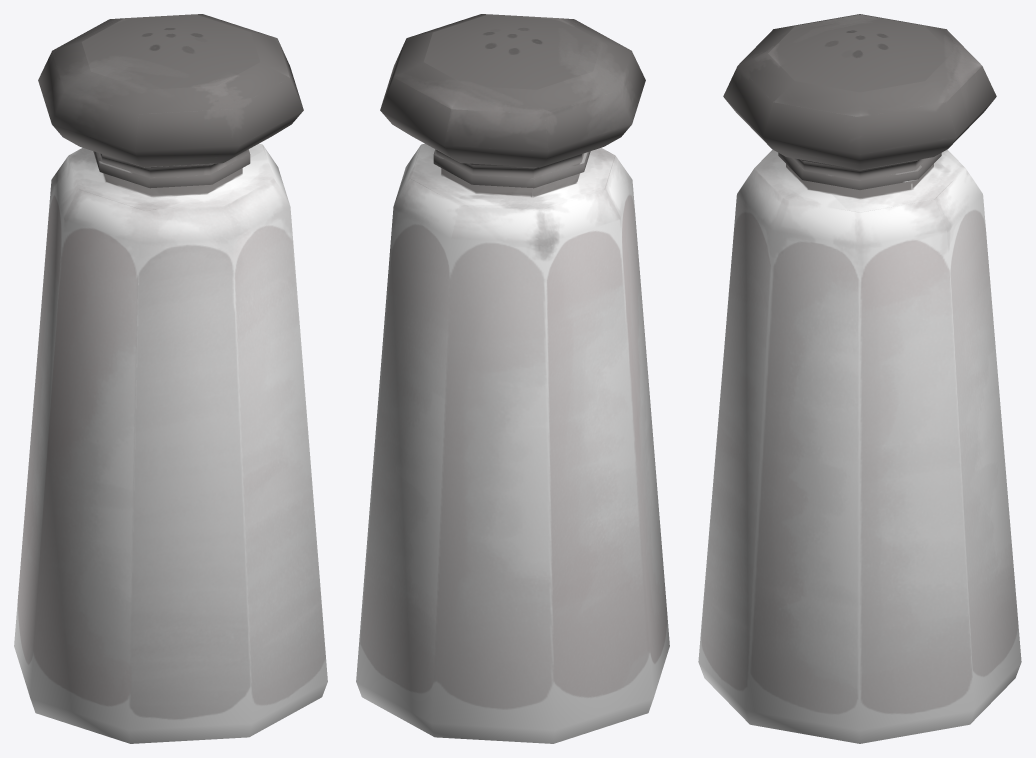
Rendered from salero_.fbx.
The picture shows the model from 3 angles, left to right: view 1: azimuth 30°, elevation 25°; view 2: azimuth 150°, elevation 25°; view 3: azimuth 270°, elevation 25°; orthographic projection.
Visible parts, largest first — view 1: Salero_term; view 2: Salero_term; view 3: Salero_term.
Boxes of the visible parts, box(x1,y1,x2,y2) form: Salero_term: box(14, 14, 327, 743); Salero_term: box(356, 14, 669, 743); Salero_term: box(698, 14, 1021, 743).
Bounding box in the file's own units: 3.63 × 7.96 × 3.63.
Materials: 2 (2 with a texture image).
